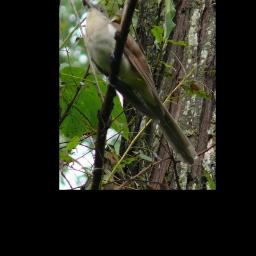Cuckoo: (82, 0, 198, 167)
